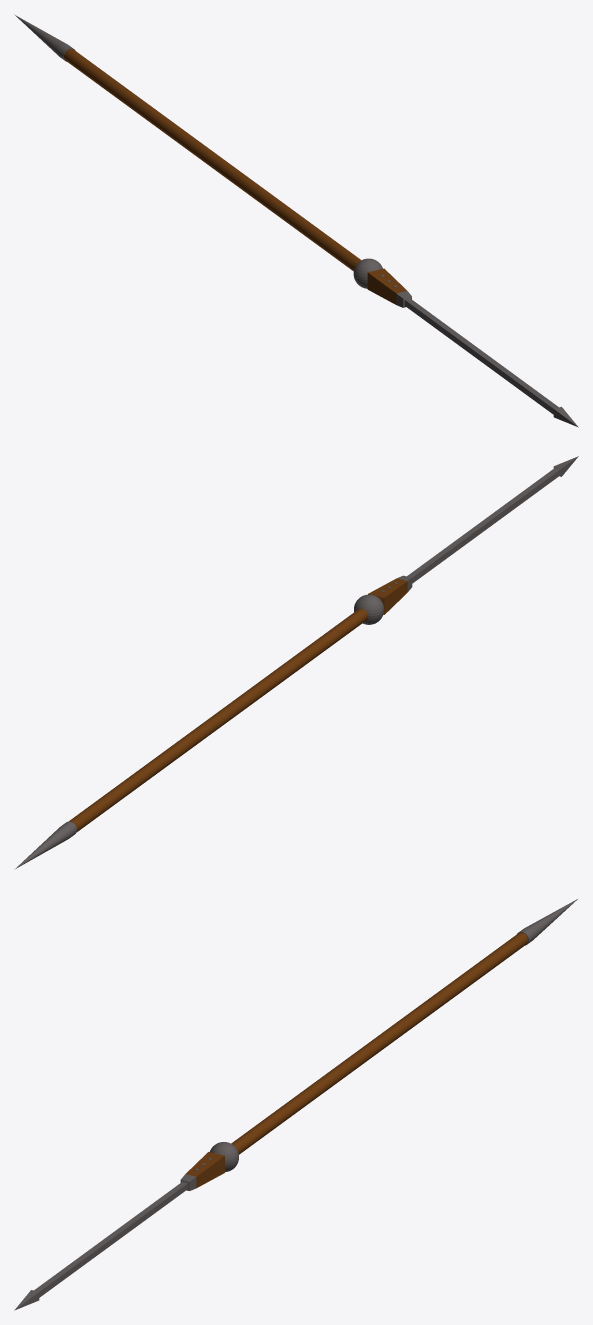
The model's file is Pilum.fbx.
3 views of the same model, one above another, from view 1: azimuth 30°, elevation 25°; view 2: azimuth 150°, elevation 25°; view 3: azimuth 330°, elevation 25° (orthographic).
Visible parts, largest first — view 1: Pilum; view 2: Pilum; view 3: Pilum.
Boxes of the visible parts, left/top/right/bottom form: Pilum: left=14, top=14, right=578, bottom=427; Pilum: left=14, top=456, right=578, bottom=869; Pilum: left=14, top=899, right=577, bottom=1310.
Bounding box in the file's own units: 35.41 × 35.41 × 1314.
